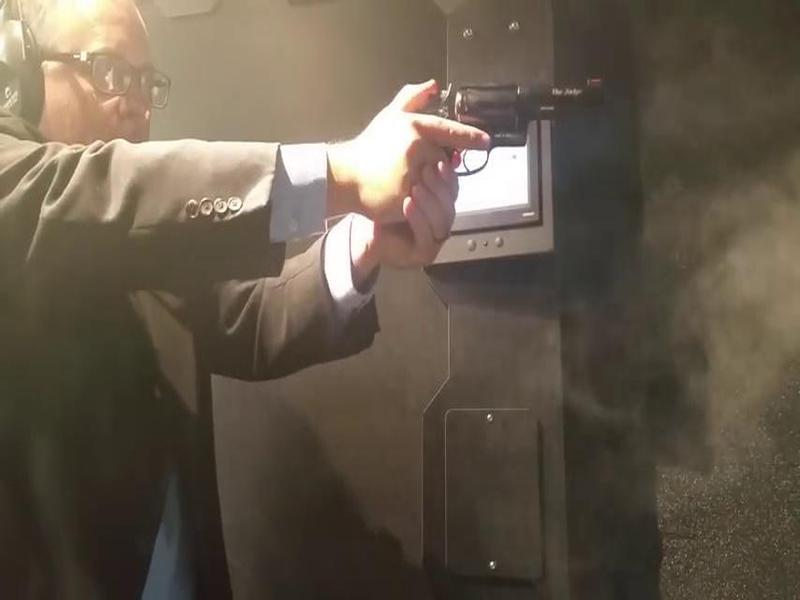Revolver: (397, 61, 588, 207)
